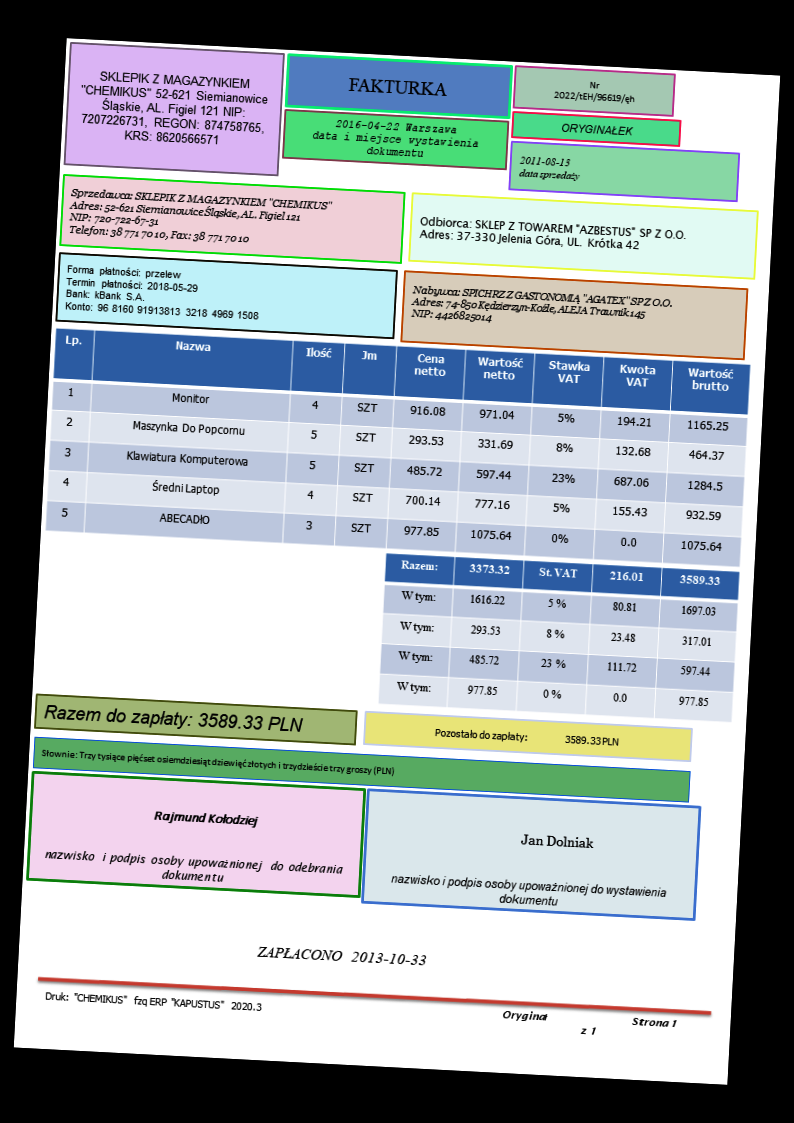Table: (43, 327, 752, 568), (377, 551, 741, 724)
TextBox: (64, 184, 337, 251), (77, 67, 272, 151), (409, 281, 675, 335), (42, 847, 344, 891), (388, 870, 668, 914), (61, 262, 262, 322), (38, 746, 396, 778), (416, 213, 688, 255), (41, 699, 306, 736), (309, 116, 482, 163), (499, 1008, 680, 1041), (43, 988, 263, 1014), (256, 943, 427, 969), (433, 725, 620, 748), (344, 74, 449, 100), (552, 77, 638, 107), (151, 808, 259, 830), (516, 153, 581, 183), (518, 831, 597, 853), (558, 119, 635, 138)
